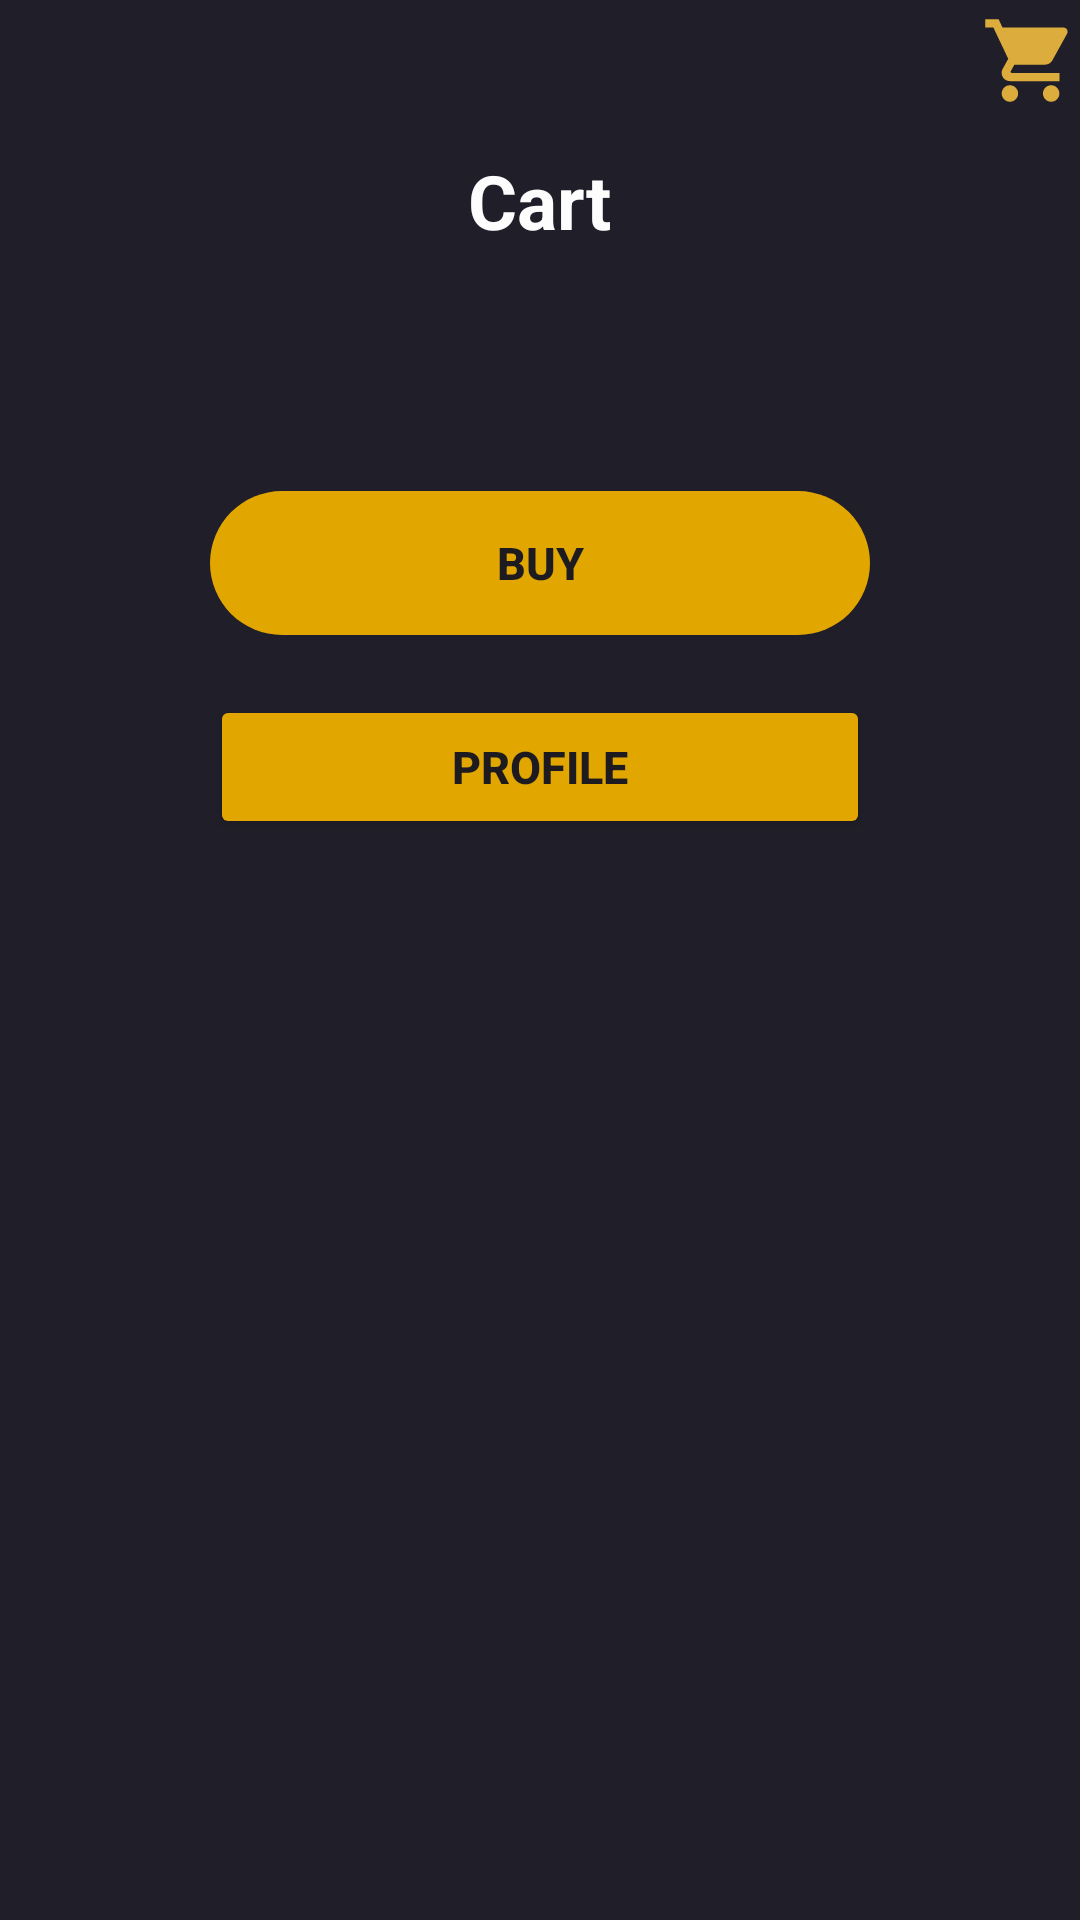

Screen size 1080 × 1920. Icon name, then its center in pixels as point (x, y):
CART: point (1026, 60)
